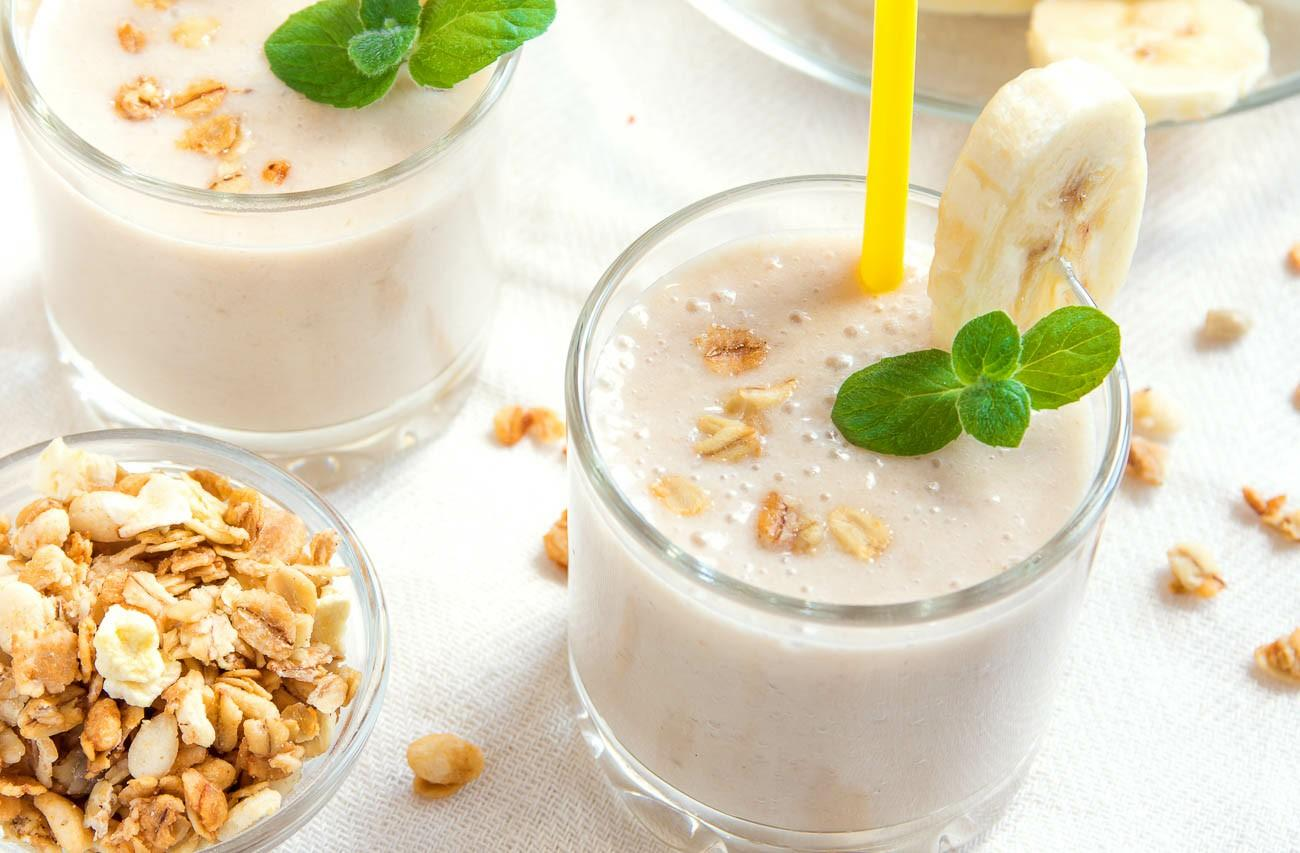Lassi: (565, 225, 1097, 834), (18, 1, 517, 432)
